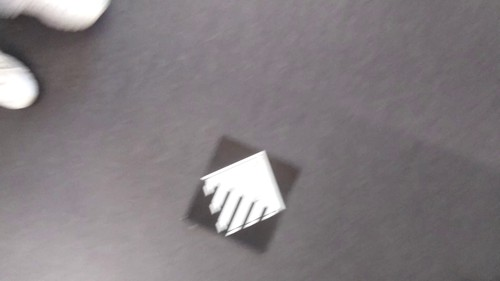misgoods: (198, 154, 294, 236)
